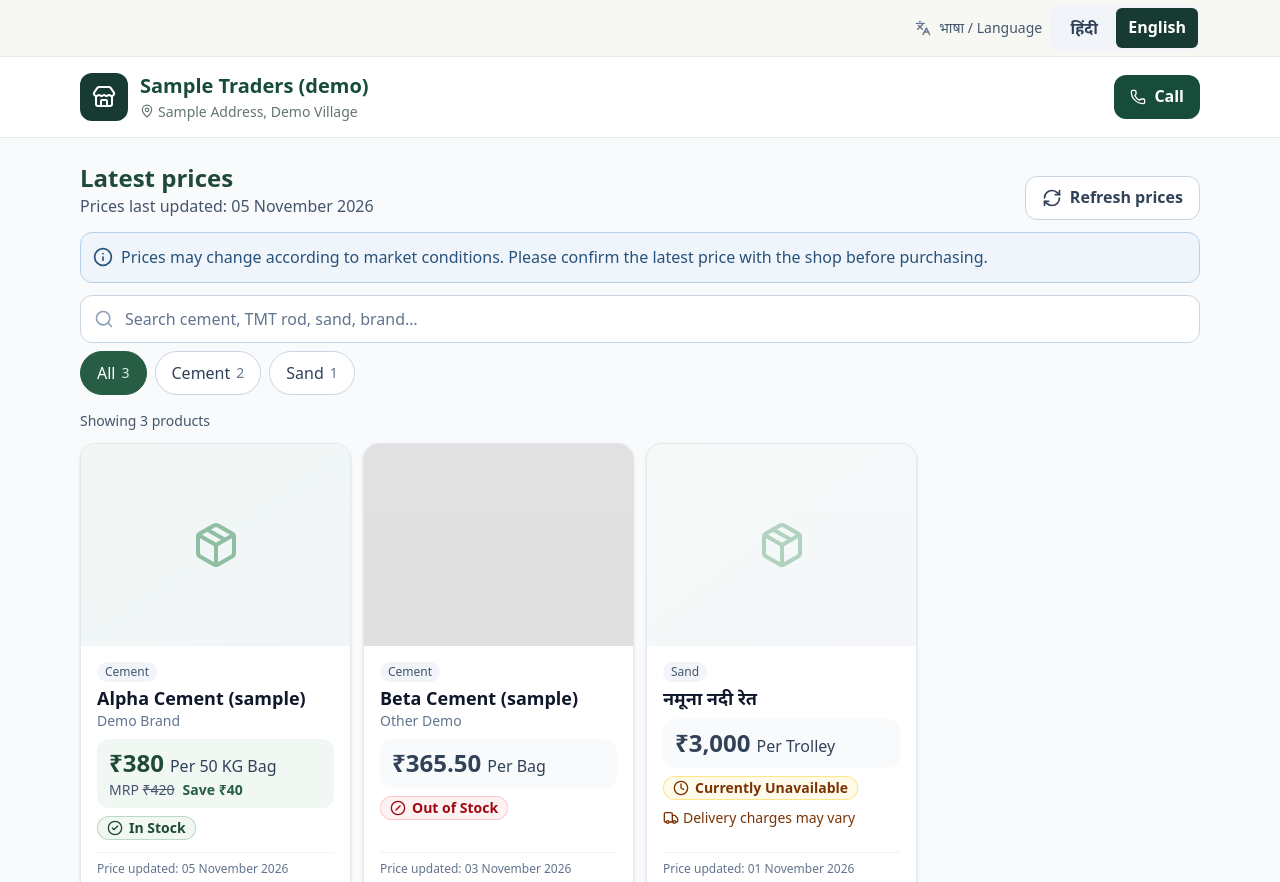
Test case: Customer catalogue page (English) › refreshes prices from the server on request
Expected: the text "₹380" is shown, [109,747,164,779]
Click the button "Refresh prices" at (1112, 198), box [1025,176,1200,220]
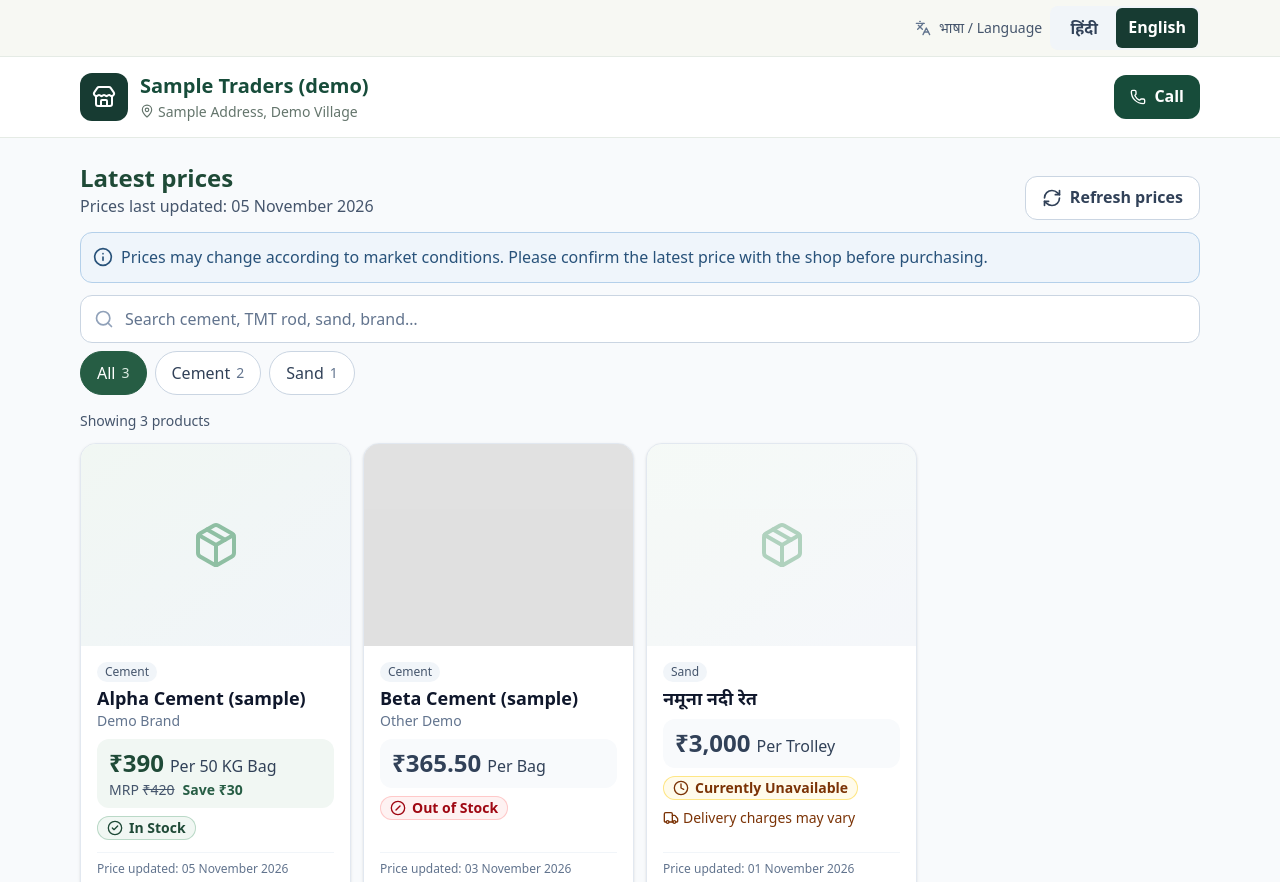
Now the text "₹390" is shown, box [109,747,164,779]
